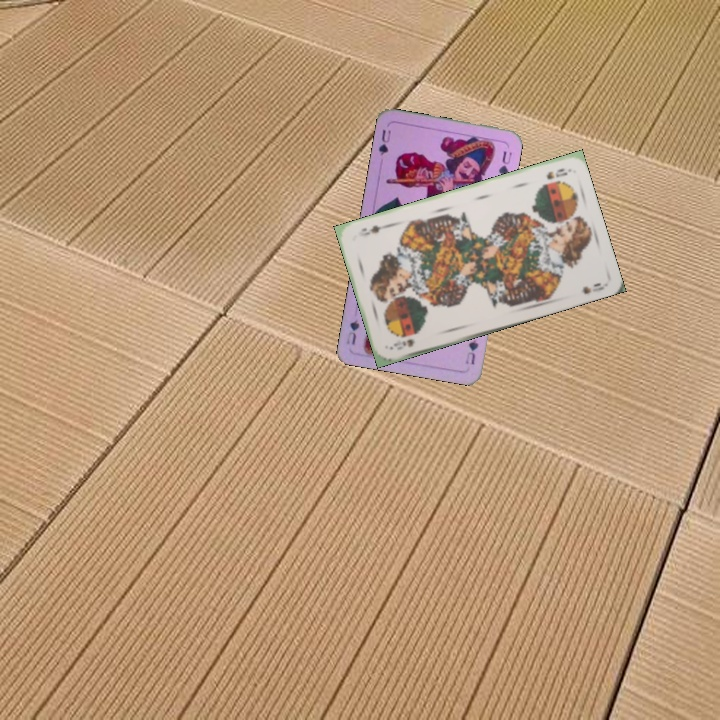GU: (374, 125, 393, 158), (461, 336, 481, 367)
SO: (542, 164, 570, 182), (390, 335, 417, 349)
